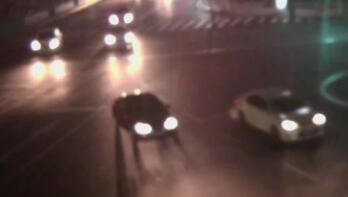car: (228, 87, 327, 146), (111, 91, 176, 138), (103, 24, 134, 53), (30, 26, 63, 53), (107, 1, 136, 30)
